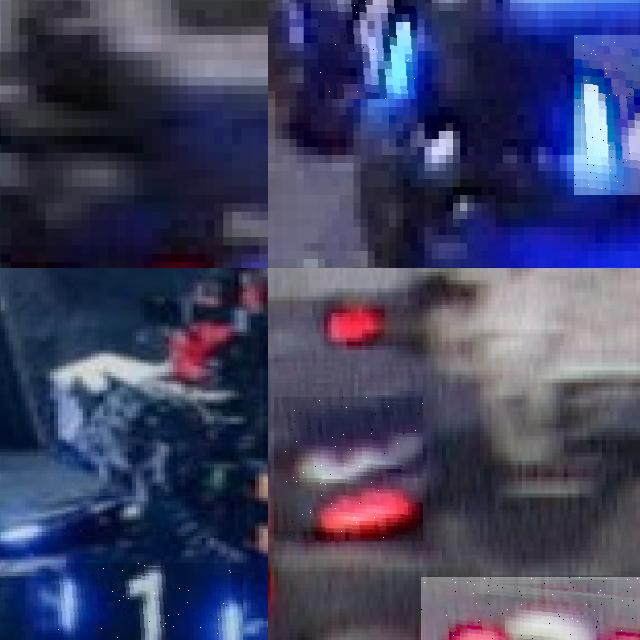B1: (46, 562, 243, 640)
B4: (574, 35, 640, 195), (317, 0, 417, 99)
R3: (274, 397, 423, 541), (421, 577, 640, 640)
